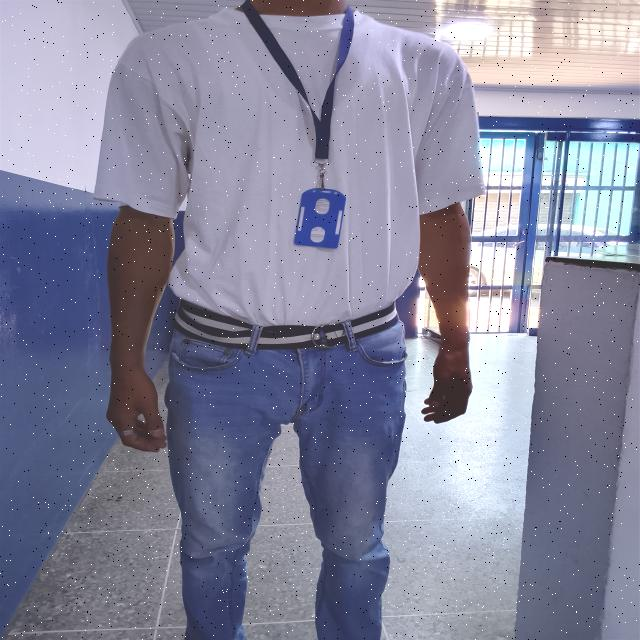carnet: (293, 188, 347, 248)
